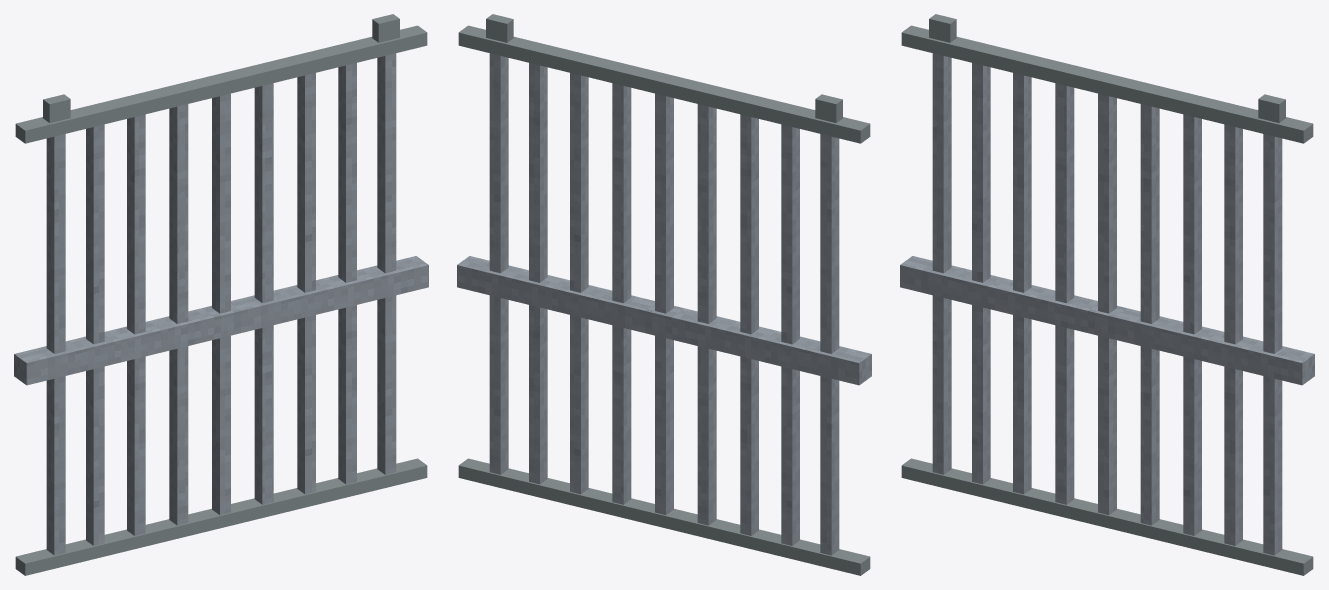
File: sally-moving-panel.glb
3 renders of one model, left to right at view 1: azimuth 30°, elevation 25°; view 2: azimuth 150°, elevation 25°; view 3: azimuth 330°, elevation 25°, orthographic.
Visible parts, largest first — view 1: Sally gate retained bars and cross rail, Entrance rebuild Sally gate moving head rail, Entrance rebuild Sally gate moving toe rail, Entrance rebuild Sally gate travelling hanger 33.02, Entrance rebuild Sally gate travelling hanger 34.98; view 2: Sally gate retained bars and cross rail, Entrance rebuild Sally gate moving head rail, Entrance rebuild Sally gate moving toe rail, Entrance rebuild Sally gate travelling hanger 33.02, Entrance rebuild Sally gate travelling hanger 34.98; view 3: Sally gate retained bars and cross rail, Entrance rebuild Sally gate moving head rail, Entrance rebuild Sally gate moving toe rail, Entrance rebuild Sally gate travelling hanger 34.98, Entrance rebuild Sally gate travelling hanger 33.02.
Part boxes in pixels (left/top/right/bottom): Sally gate retained bars and cross rail: left=14, top=53, right=428, bottom=555; Entrance rebuild Sally gate moving head rail: left=15, top=25, right=427, bottom=143; Entrance rebuild Sally gate moving toe rail: left=15, top=458, right=427, bottom=575; Entrance rebuild Sally gate travelling hanger 33.02: left=43, top=94, right=70, bottom=122; Entrance rebuild Sally gate travelling hanger 34.98: left=372, top=14, right=399, bottom=42; Sally gate retained bars and cross rail: left=457, top=53, right=871, bottom=555; Entrance rebuild Sally gate moving head rail: left=458, top=25, right=870, bottom=143; Entrance rebuild Sally gate moving toe rail: left=458, top=458, right=870, bottom=575; Entrance rebuild Sally gate travelling hanger 33.02: left=815, top=94, right=842, bottom=122; Entrance rebuild Sally gate travelling hanger 34.98: left=486, top=14, right=513, bottom=42; Sally gate retained bars and cross rail: left=900, top=53, right=1314, bottom=555; Entrance rebuild Sally gate moving head rail: left=901, top=25, right=1313, bottom=143; Entrance rebuild Sally gate moving toe rail: left=901, top=458, right=1313, bottom=575; Entrance rebuild Sally gate travelling hanger 34.98: left=1258, top=94, right=1285, bottom=122; Entrance rebuild Sally gate travelling hanger 33.02: left=929, top=14, right=956, bottom=42.
Bounding box in the file's own units: 2.4 × 2.64 × 0.13.
Materials: 2 (1 with a texture image).
